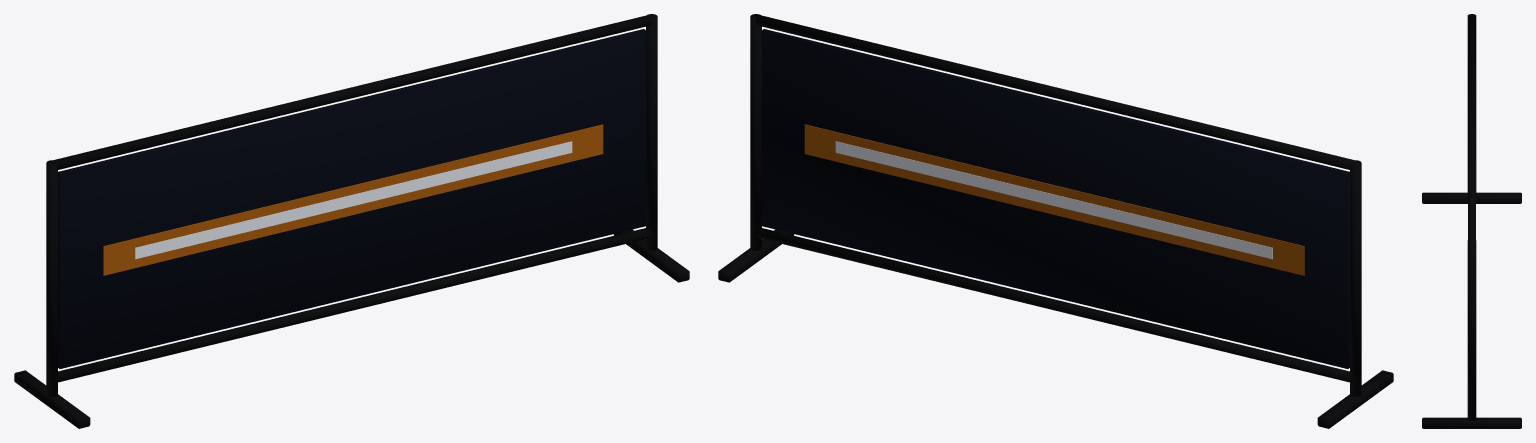
File: cozy_tt_barrier_surround.obj
The picture shows the model from 3 angles, left to right: view 1: azimuth 30°, elevation 25°; view 2: azimuth 150°, elevation 25°; view 3: azimuth 270°, elevation 25°; orthographic projection. The views are drawn at different scales.
Parts seen in each view (by area): view 1: cozy_tt_barrier_surround_Mesh; view 2: cozy_tt_barrier_surround_Mesh; view 3: cozy_tt_barrier_surround_Mesh.
Part boxes in pixels (x1,y1,x2,y2): cozy_tt_barrier_surround_Mesh: (14, 14, 689, 428); cozy_tt_barrier_surround_Mesh: (718, 14, 1393, 428); cozy_tt_barrier_surround_Mesh: (1422, 14, 1521, 428).
Size of the model in its own units: 1.96 by 0.745 by 0.36.
